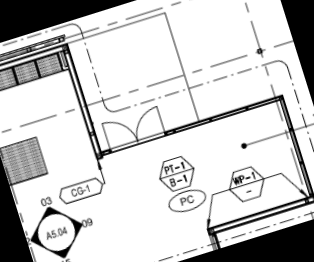double door: (99, 103, 168, 152)
